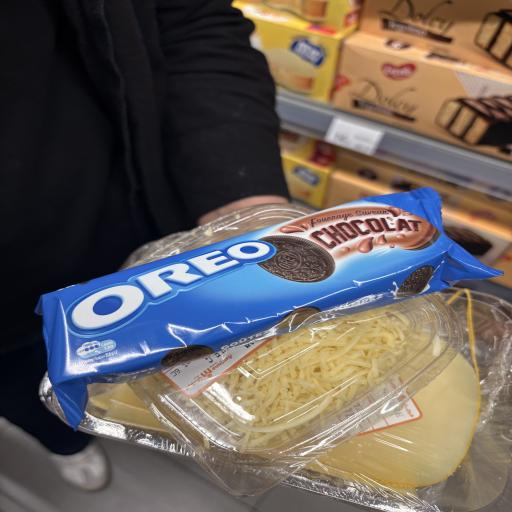oreo: (18, 172, 511, 398)
